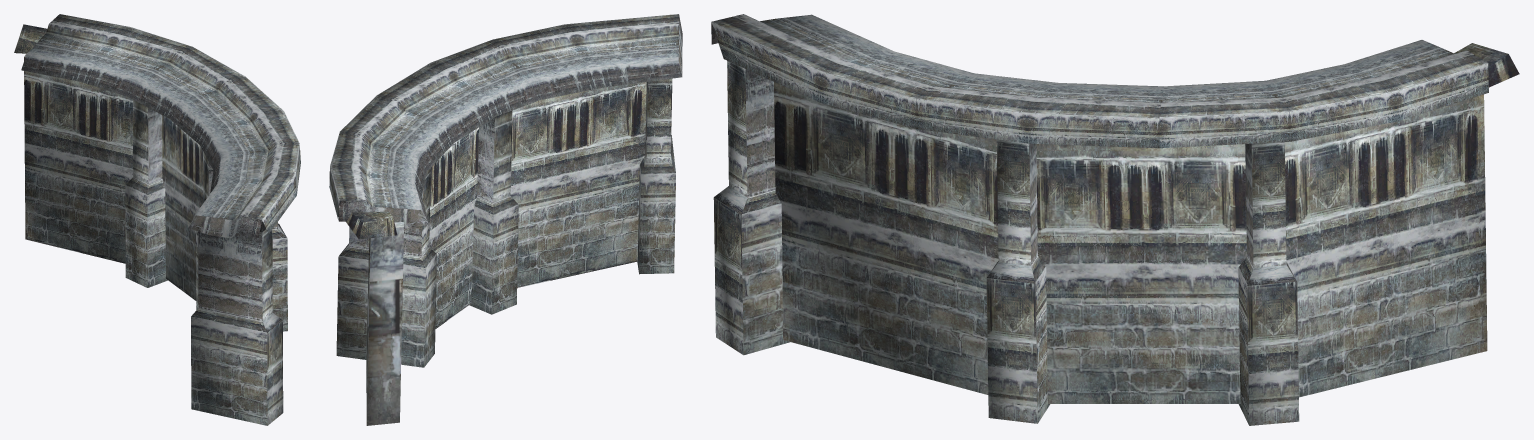
Rendered from S_Build_Snowland128.FBX.
The picture shows the model from 3 angles, left to right: view 1: azimuth 30°, elevation 25°; view 2: azimuth 150°, elevation 25°; view 3: azimuth 270°, elevation 25°; orthographic projection. The views are drawn at different scales.
Parts seen in each view (by area): view 1: S_Build_Snowland128; view 2: S_Build_Snowland128; view 3: S_Build_Snowland128.
Boxes of the visible parts, x1=… form: S_Build_Snowland128: x1=14, y1=14, x2=300, y2=425; S_Build_Snowland128: x1=329, y1=14, x2=682, y2=425; S_Build_Snowland128: x1=711, y1=14, x2=1519, y2=425.
Bounding box in the file's own units: 502 × 1362 × 580.
